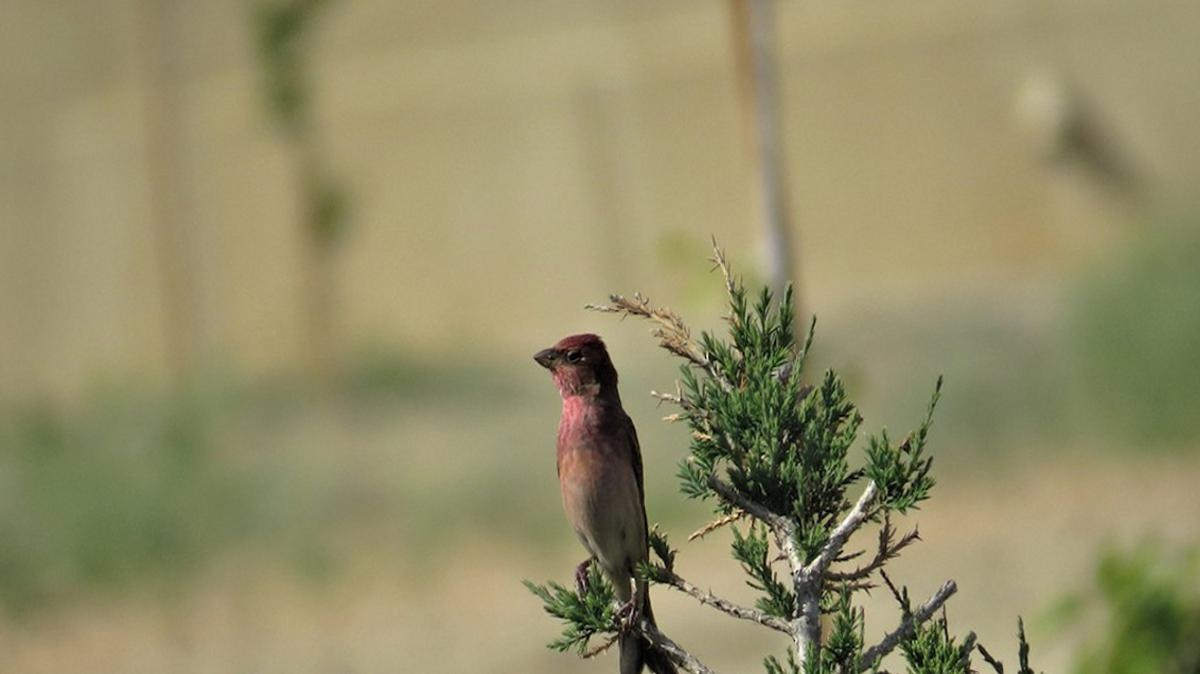rosefinch: (527, 345, 667, 580)
